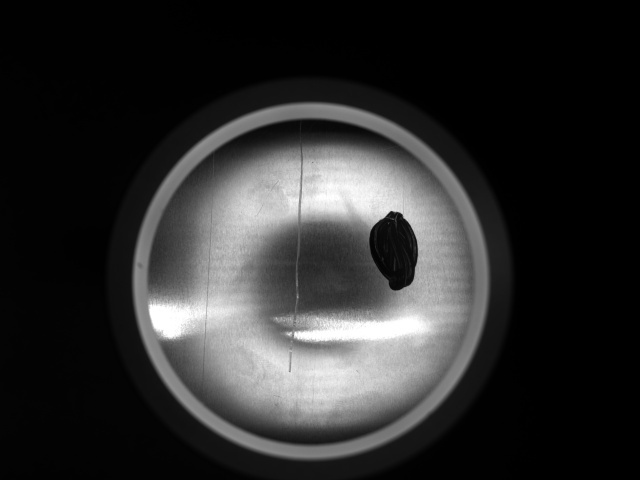ca_shang: (289, 127, 306, 375), (201, 157, 216, 393)
zang_wu: (367, 209, 417, 289)
